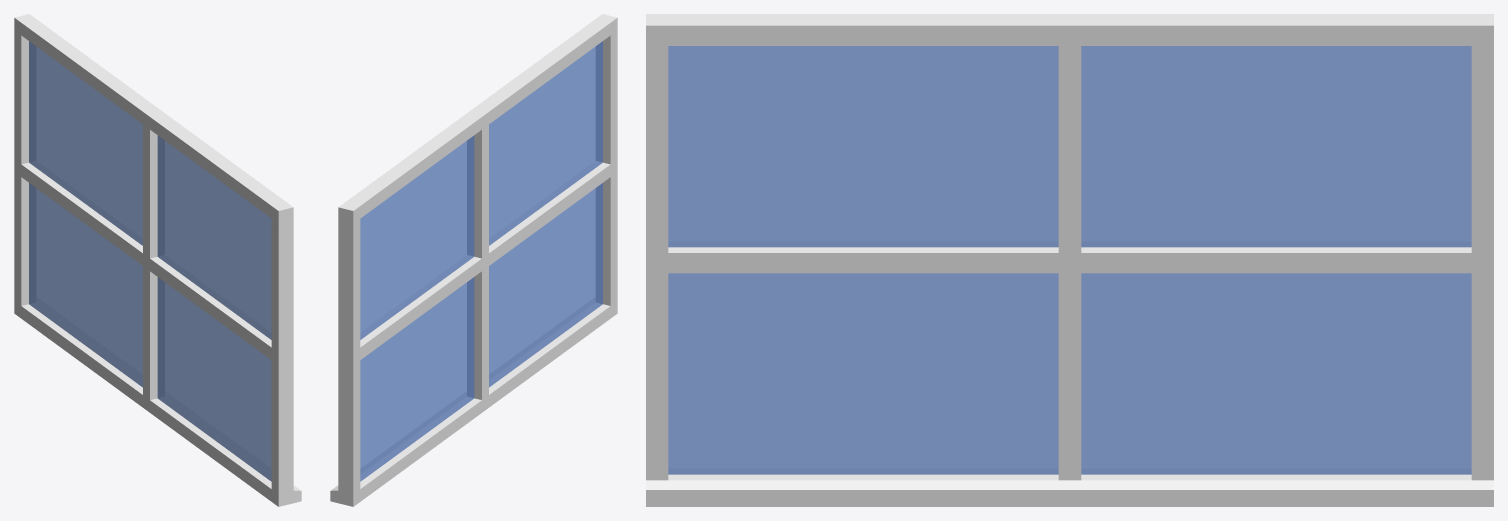
Rendered from window.fbx.
The picture shows the model from 3 angles, left to right: view 1: azimuth 30°, elevation 25°; view 2: azimuth 150°, elevation 25°; view 3: azimuth 270°, elevation 25°; orthographic projection. The views are drawn at different scales.
Visible parts, largest first — view 1: Model; view 2: Model; view 3: Model.
Boxes of the visible parts, left/top/right/bottom form: Model: left=14, top=14, right=301, bottom=506; Model: left=330, top=14, right=617, bottom=506; Model: left=646, top=14, right=1493, bottom=506.
Size of the model in its own units: 0.4433 by 5.44 by 8.8.
